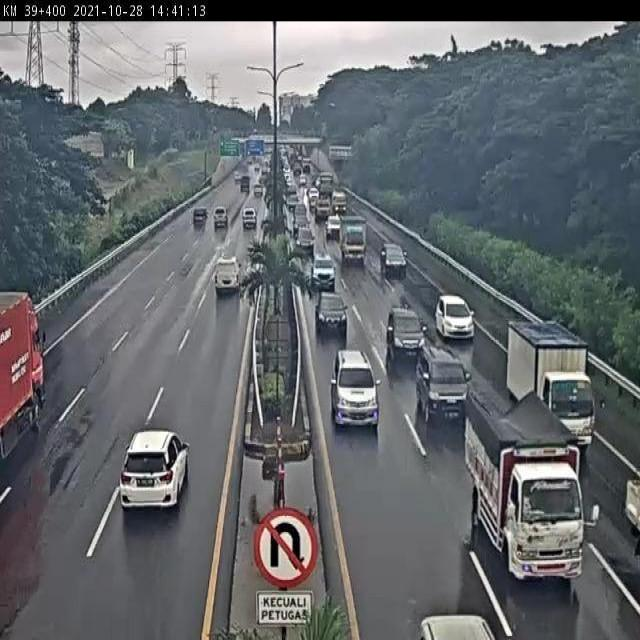car: (85, 428, 204, 524), (393, 538, 495, 640), (416, 346, 470, 418), (327, 355, 375, 425), (210, 255, 247, 305), (437, 298, 475, 338), (390, 307, 421, 352), (314, 286, 344, 326), (313, 251, 337, 288), (378, 237, 401, 275), (294, 222, 314, 250), (240, 212, 259, 233), (324, 215, 342, 236), (210, 208, 225, 233), (191, 208, 205, 231), (292, 210, 309, 227)
